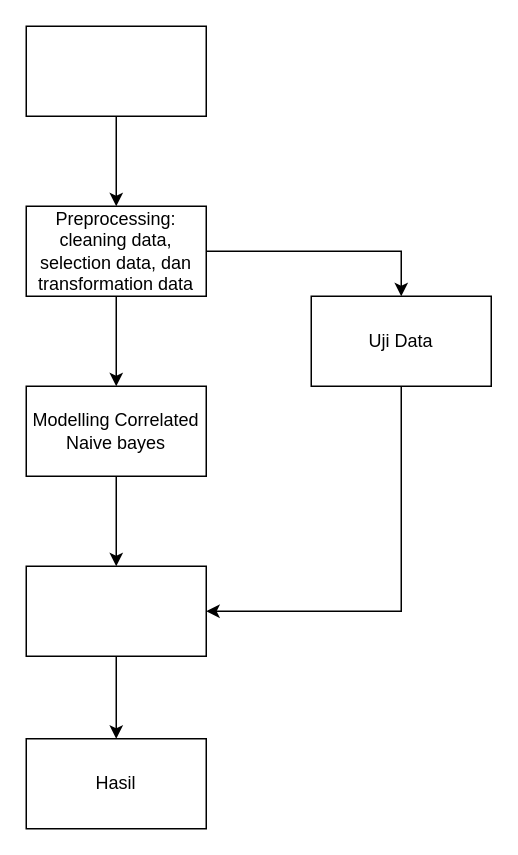
Image size: 518x855. Some labels were removed from this diagram. Each missing label, with the centre of its shape:
"Data mentah Penyakit Jantung" goes at point (115, 70).
"Model" goes at point (115, 610).
